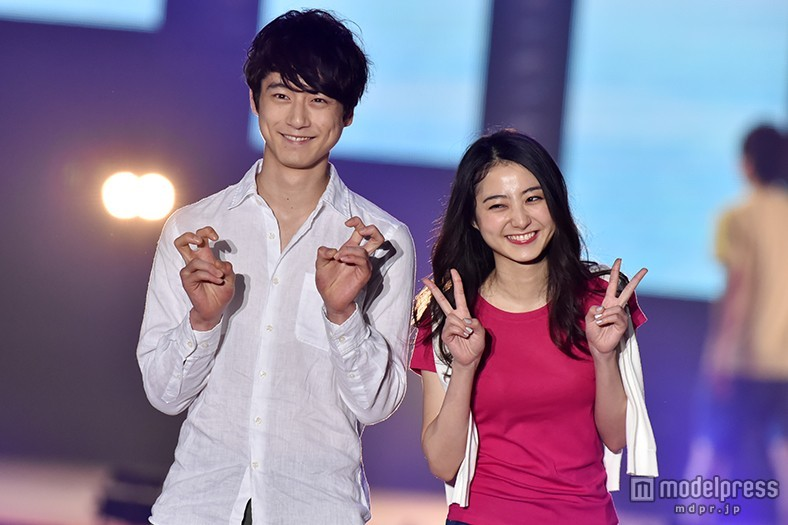face: (474, 160, 557, 264), (262, 70, 345, 170)
hand: (314, 212, 384, 310), (172, 223, 238, 325), (420, 268, 487, 366), (582, 257, 649, 354)
